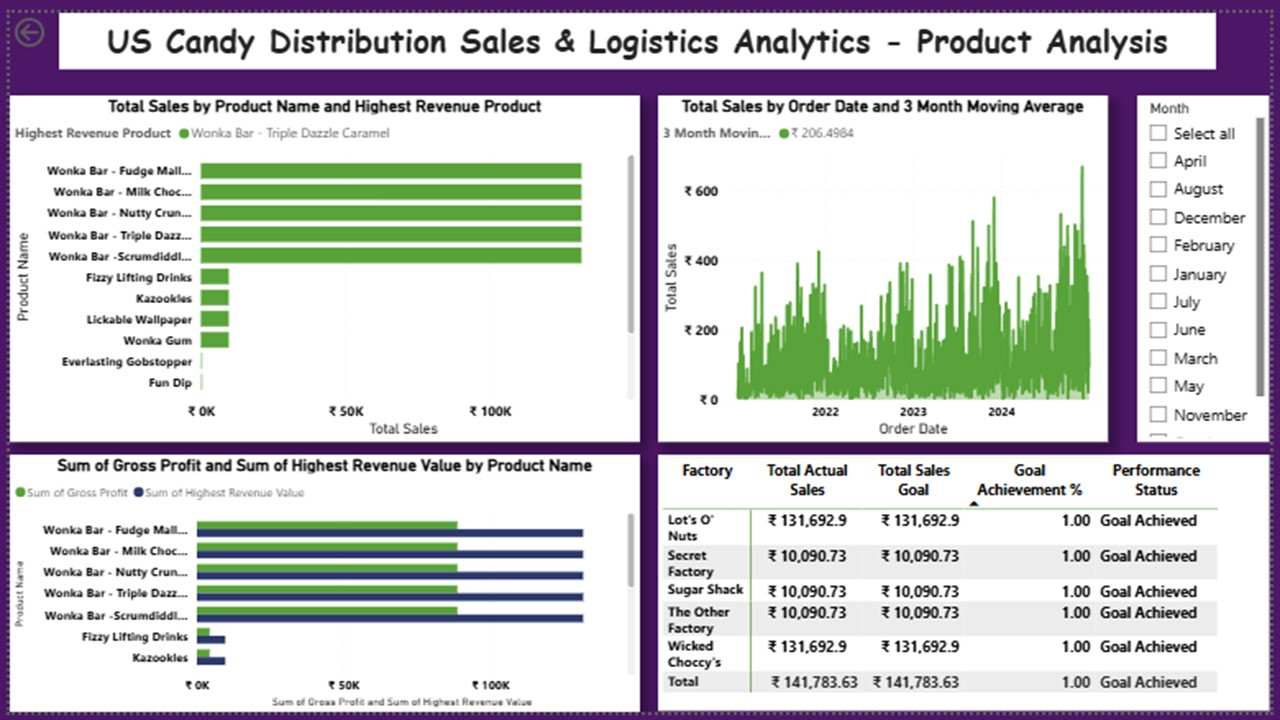

The page's visual inventory and layout, read from the dashboard file:
{"tool":"powerbi","page":{"name":"Product Analysis","canvas":[1280,720],"ordinal":0},"visuals":[{"type":"pivotTable","fields":{"Rows":["Candy Factories.Factory"],"Values":["Candy Sales.Total Actual Sales","Candy Sales.Total Sales Goal","Candy Sales.Goal Achievement %","Candy Sales.Performance Status"]},"box":[658.6,455.7,621.4,264.3],"z":0},{"type":"actionButton","box":[0,0,100,40],"z":1000},{"type":"clusteredBarChart","fields":{"Y":["Candy Sales.Total Sales"],"Category":["Candy Product.Product Name"],"Series":["Candy Sales.Highest Revenue Product"]},"box":[0,85,640,356.7],"z":2000},{"type":"clusteredBarChart","fields":{"Category":["Candy Product.Product Name"],"Y":["Sum(Candy Sales.Gross Profit)","Sum(Candy Sales.Highest Revenue Value)"]},"box":[0,455,640,265],"z":3000},{"type":"lineChart","fields":{"Category":["Candy Sales.Order Date"],"Y":["Candy Sales.Total Sales"],"Series":["Date Table.3 Month Moving Average"]},"box":[658.3,85,456.7,356.7],"z":4000},{"type":"slicer","fields":{"Values":["Date Table.Month"]},"box":[1145.7,84.3,134.3,357.1],"z":5000},{"type":"textbox","box":[50,0,1175,58.3],"z":6000}]}

Visuals, with their boxes in screenshot pixels (x1, y1, x2, y2), scaled from the page's 1280x720 canvas onto the 1280x720 screenshot:
pivotTable - Candy Factories.Factory x Candy Sales.Total Actual Sales: [659, 456, 1279, 719]
actionButton: [0, 0, 100, 40]
clusteredBarChart - Candy Sales.Total Sales x Candy Product.Product Name: [0, 85, 640, 442]
clusteredBarChart - Candy Product.Product Name x Sum(Candy Sales.Gross Profit): [0, 455, 640, 719]
lineChart - Candy Sales.Order Date x Candy Sales.Total Sales: [658, 85, 1115, 442]
slicer - Date Table.Month: [1146, 84, 1279, 441]
textbox: [50, 0, 1225, 58]
